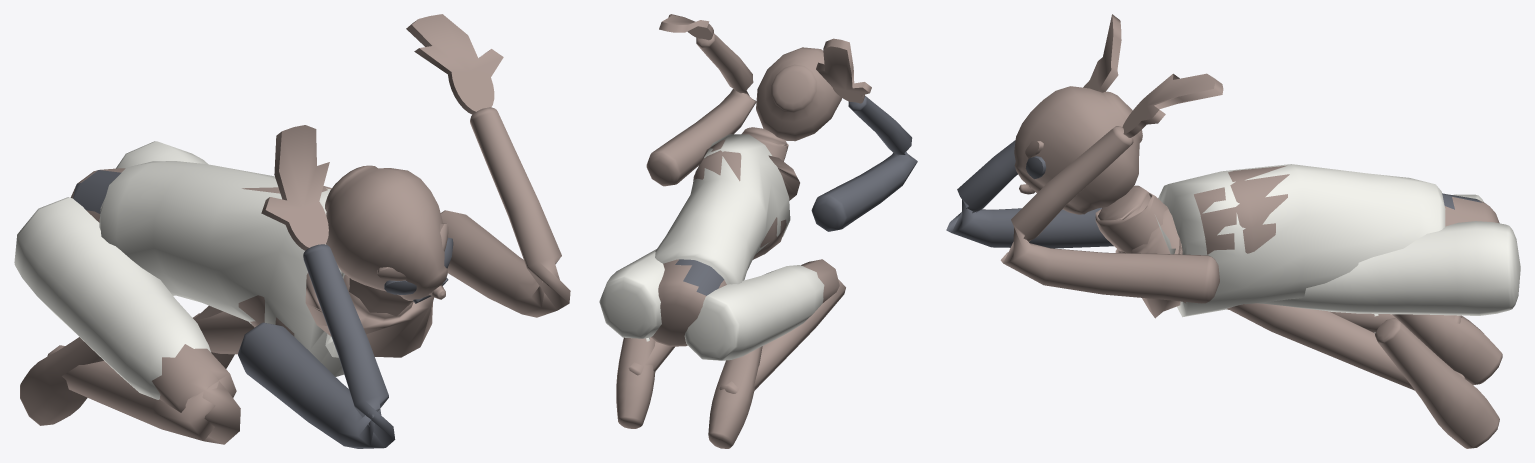
The model's file is undead-horde-and-infected-variants-dried-husk-dressing-a89d4a4a__12016.glb.
3 views of the same model, side by side, from view 1: azimuth 30°, elevation 25°; view 2: azimuth 150°, elevation 25°; view 3: azimuth 270°, elevation 25° (orthographic). The views are drawn at different scales.
Parts seen in each view (by area): view 1: dried-husk-dressing; view 2: dried-husk-dressing; view 3: dried-husk-dressing.
Part boxes in pixels (left/top/right/bottom): dried-husk-dressing: left=14, top=14, right=570, bottom=448; dried-husk-dressing: left=599, top=14, right=917, bottom=448; dried-husk-dressing: left=946, top=14, right=1520, bottom=448.
Bounding box in the file's own units: 0.4513 × 0.6698 × 0.8647.
